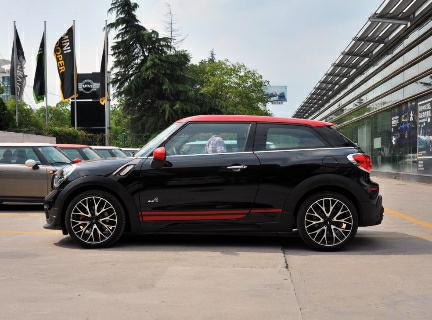MINI-JCWPACEMAN: (50, 117, 389, 252)
